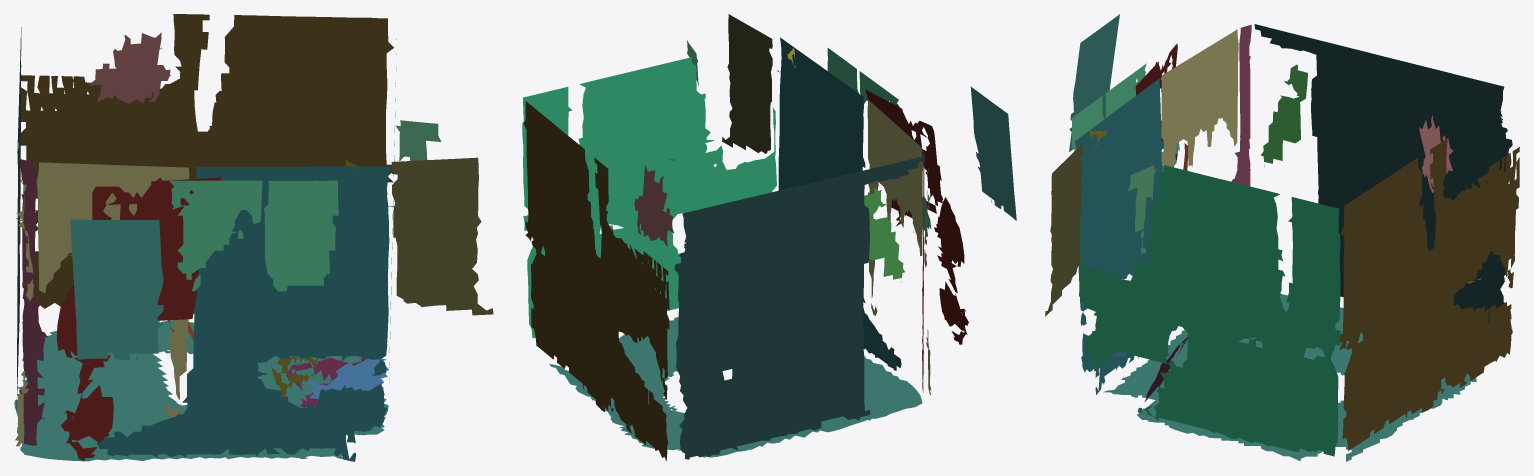
The model's file is AirPlanes-7bc286c1b6.glb.
The picture shows the model from 3 angles, left to right: view 1: azimuth 30°, elevation 25°; view 2: azimuth 150°, elevation 25°; view 3: azimuth 270°, elevation 25°; orthographic projection. The views are drawn at different scales.
Visible parts, largest first — view 1: piecewise-AirPlanes-scene2007_00-lean; view 2: piecewise-AirPlanes-scene2007_00-lean; view 3: piecewise-AirPlanes-scene2007_00-lean.
Part boxes in pixels (x1,y1,x2,y2): piecewise-AirPlanes-scene2007_00-lean: (14, 14, 493, 461); piecewise-AirPlanes-scene2007_00-lean: (522, 14, 1016, 461); piecewise-AirPlanes-scene2007_00-lean: (1045, 14, 1519, 461).
Size of the model in its own units: 3.26 by 2.09 by 3.35.
